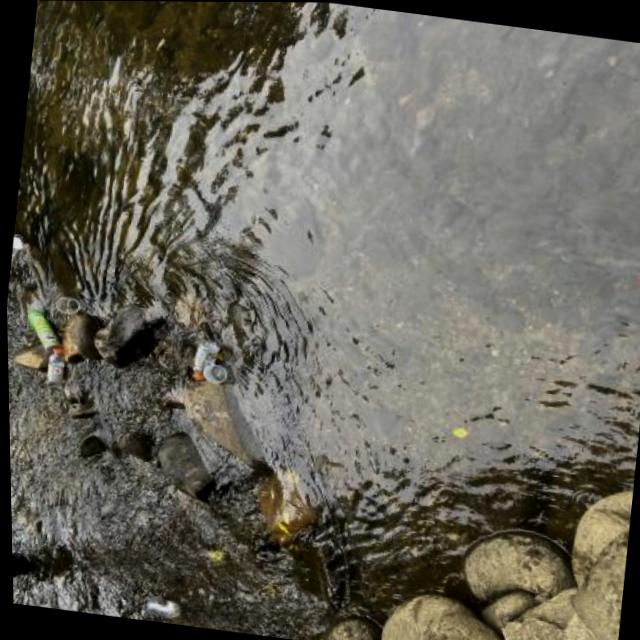Can-Metal: (19, 305, 66, 356)
Plastic: (185, 335, 233, 389), (37, 341, 71, 387), (136, 590, 183, 622), (628, 249, 640, 297)
